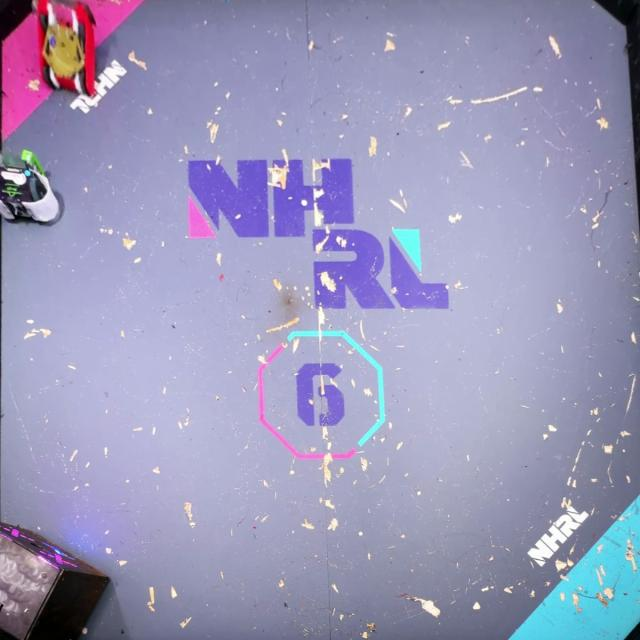housebot: (0, 520, 112, 640)
robot: (32, 0, 98, 99), (0, 150, 64, 227)
